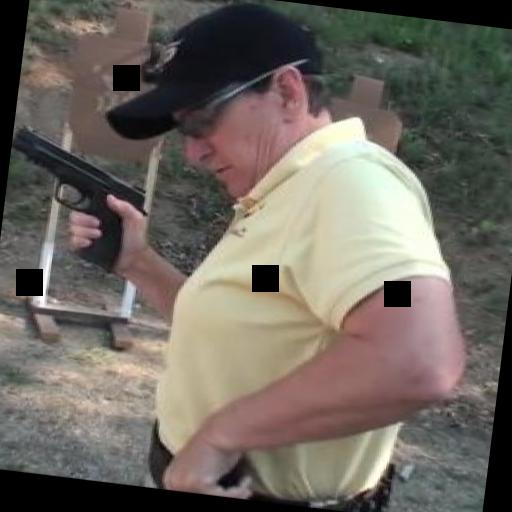Handgun: (1, 121, 152, 271)
